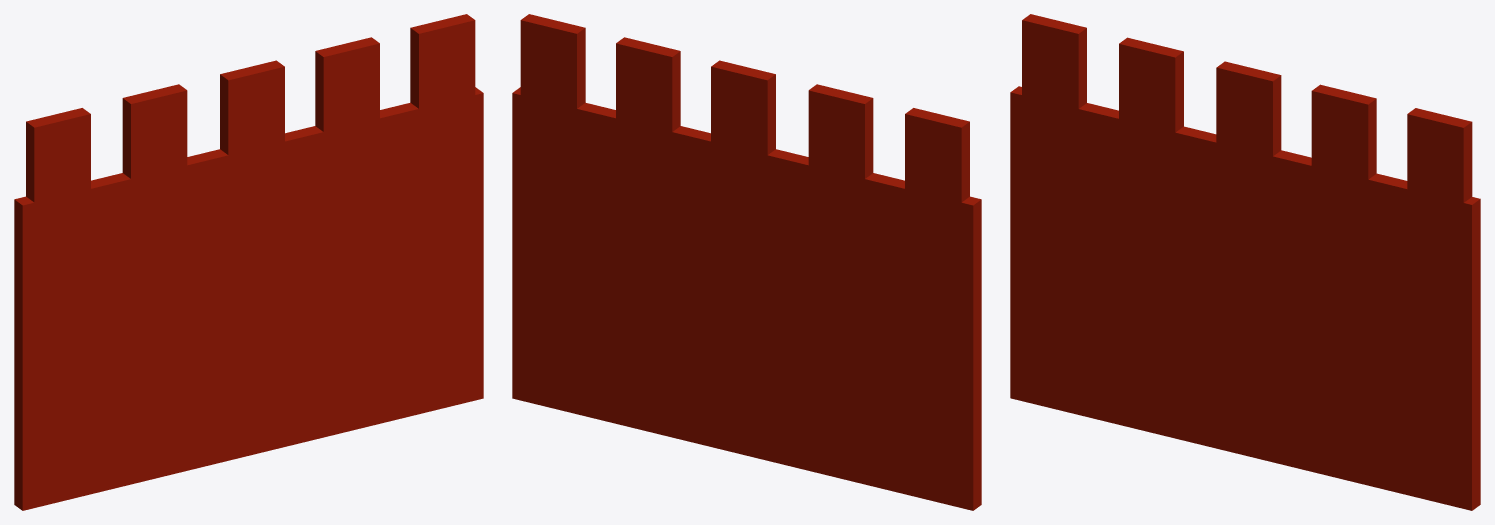
The model's file is wall.obj.
3 views of the same model, side by side, from view 1: azimuth 30°, elevation 25°; view 2: azimuth 150°, elevation 25°; view 3: azimuth 330°, elevation 25° (orthographic).
Parts seen in each view (by area): view 1: Cube, Cube.002, Cube.005, Cube.001, Cube.003, Cube.004; view 2: Cube, Cube.002, Cube.005, Cube.003, Cube.001, Cube.004; view 3: Cube, Cube.004, Cube.003, Cube.005, Cube.001, Cube.002.
Part boxes in pixels (left/top/right/bottom): Cube: left=14, top=87, right=483, bottom=510; Cube.002: left=122, top=84, right=187, bottom=180; Cube.005: left=410, top=14, right=475, bottom=109; Cube.001: left=26, top=108, right=90, bottom=203; Cube.003: left=220, top=60, right=284, bottom=156; Cube.004: left=315, top=37, right=379, bottom=133; Cube: left=512, top=87, right=981, bottom=510; Cube.002: left=808, top=84, right=873, bottom=180; Cube.005: left=520, top=14, right=585, bottom=109; Cube.003: left=711, top=60, right=775, bottom=156; Cube.001: left=905, top=108, right=969, bottom=203; Cube.004: left=616, top=37, right=680, bottom=131; Cube: left=1010, top=86, right=1480, bottom=510; Cube.004: left=1311, top=84, right=1376, bottom=180; Cube.003: left=1216, top=61, right=1281, bottom=157; Cube.005: left=1407, top=108, right=1472, bottom=203; Cube.001: left=1022, top=14, right=1086, bottom=109; Cube.002: left=1119, top=37, right=1183, bottom=133.
Bounding box in the file's own units: 1.22 × 0.964 × 0.0387.
